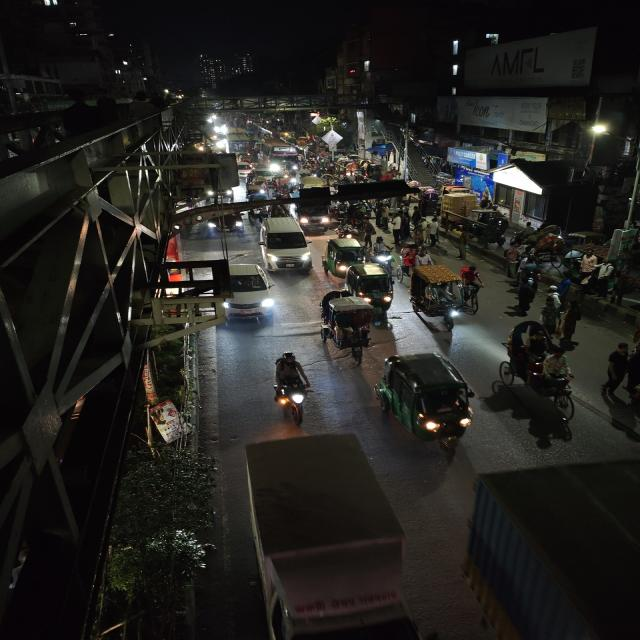bicycle: (459, 264, 486, 312)
bus: (258, 138, 298, 174)
car: (222, 261, 274, 326), (255, 216, 313, 272), (216, 210, 248, 237), (235, 162, 255, 178)
cng: (375, 350, 481, 451), (345, 264, 398, 308), (322, 237, 364, 277)
motorcycle: (265, 349, 316, 425), (368, 236, 396, 271)
pedestrian: (598, 340, 635, 404), (555, 300, 588, 340), (512, 280, 540, 314), (606, 272, 632, 308), (451, 222, 475, 260), (387, 208, 412, 244), (422, 216, 444, 248), (503, 243, 524, 276), (539, 298, 562, 328), (624, 313, 640, 356)
rickshaw: (496, 316, 581, 414), (317, 290, 378, 366), (407, 263, 467, 331), (341, 206, 369, 236)
truck: (229, 451, 412, 640), (462, 465, 640, 640), (296, 206, 336, 230)
